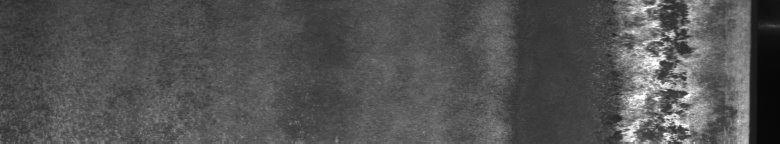kb: (607, 4, 740, 136)
